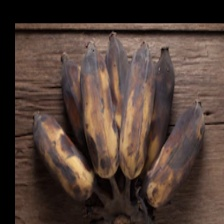banana: (45, 10, 213, 183)
